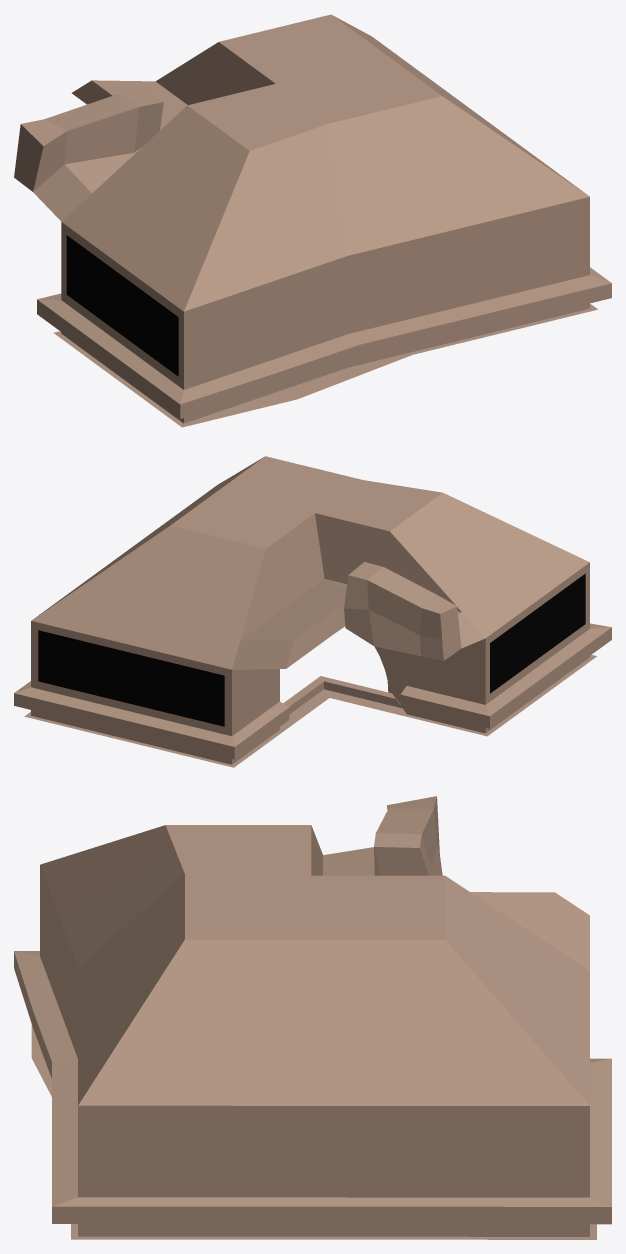
The model's file is Building_Five.fbx.
3 renders of one model, top to bottom at view 1: azimuth 30°, elevation 25°; view 2: azimuth 150°, elevation 25°; view 3: azimuth 270°, elevation 25°, orthographic. The views are drawn at different scales.
Visible parts, largest first — view 1: Plane.007; view 2: Plane.007; view 3: Plane.007.
Boxes of the visible parts, x1,y1,x2,y2 form: Plane.007: (14,14,611,427); Plane.007: (14,456,611,767); Plane.007: (14,796,611,1239).
Size of the model in its own units: 3306 by 1437 by 3264.
